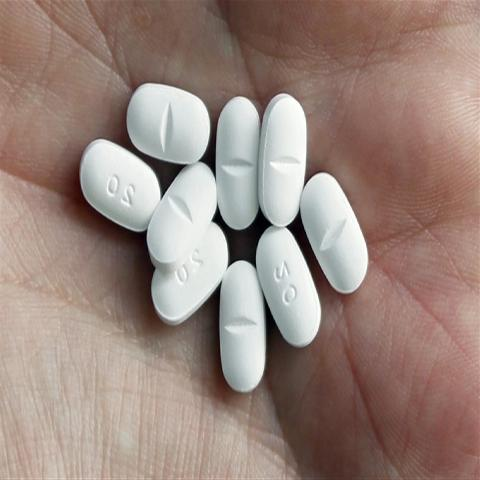Pill: (300, 167, 377, 306), (125, 74, 212, 169), (146, 165, 220, 271), (216, 259, 268, 400), (258, 90, 310, 222), (215, 91, 262, 230)
